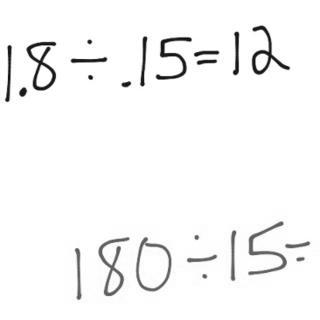.: (16, 86, 31, 102), (119, 77, 134, 90)
0: (132, 229, 176, 296)
1: (221, 222, 241, 284), (134, 32, 152, 88), (227, 27, 246, 78), (70, 243, 85, 306), (2, 40, 13, 106)
2: (242, 25, 296, 80)
5: (246, 210, 291, 281), (155, 31, 193, 83)
8: (21, 33, 63, 91), (94, 232, 130, 299)
